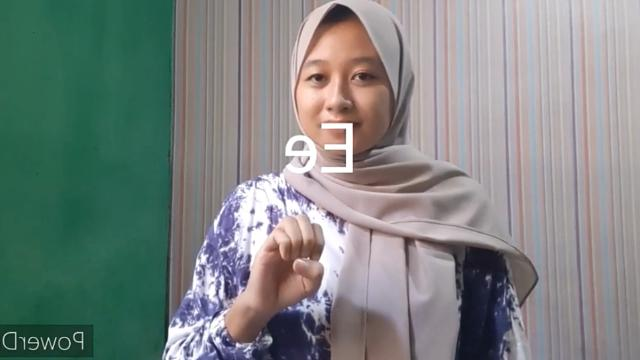E: (247, 211, 327, 314)
